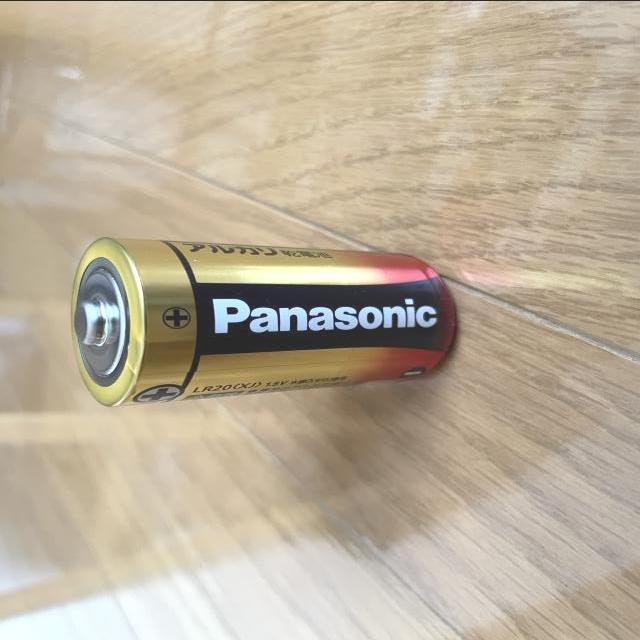AA: (75, 234, 455, 409)
